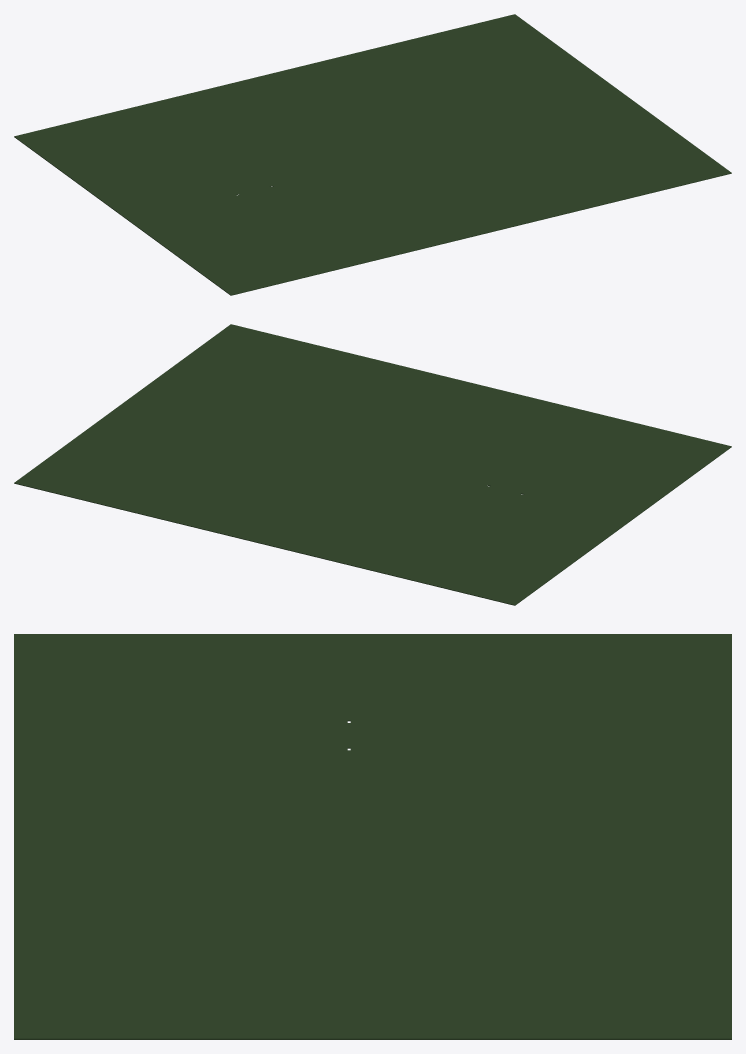
File: SM_Zemin_Cim.fbx
3 renders of one model, top to bottom at view 1: azimuth 30°, elevation 25°; view 2: azimuth 150°, elevation 25°; view 3: azimuth 270°, elevation 25°, orthographic. The views are drawn at different scales.
Visible parts, largest first — view 1: Zemin_Cim; view 2: Zemin_Cim; view 3: Zemin_Cim.
Boxes of the visible parts, x1,y1,x2,y2 form: Zemin_Cim: (14,14,731,295); Zemin_Cim: (14,324,731,605); Zemin_Cim: (14,634,731,1039).
Bounding box in the file's own units: 40000 × 50 × 30000.
